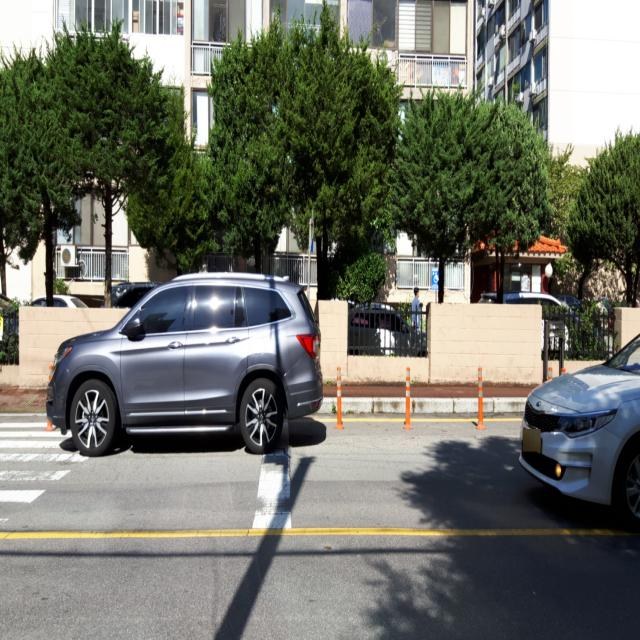횡단보도: (0, 410, 89, 525)
